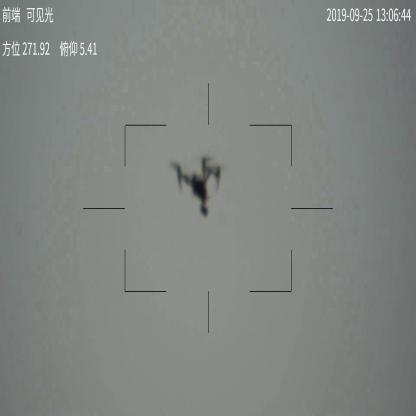uav: (168, 152, 226, 217)
